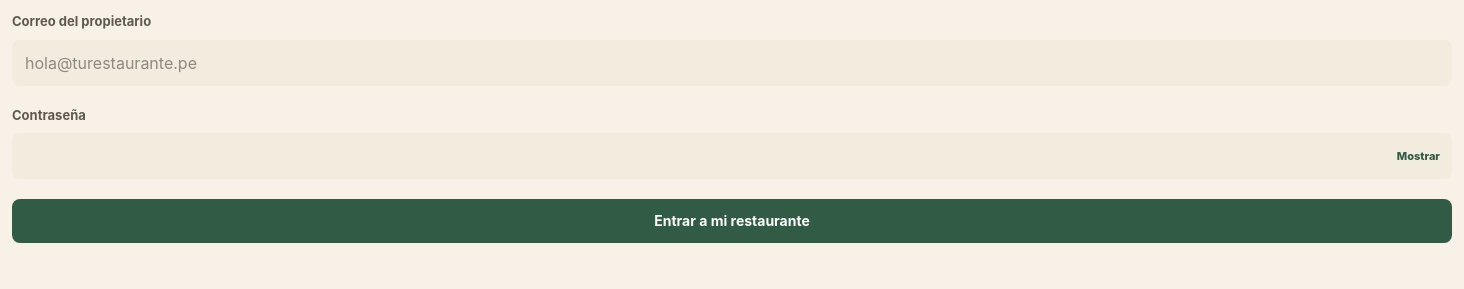
it: OwnerLoginForm › no envía un correo con formato inválido y explica cómo escribirlo
The image size is (1464, 289).
Type "hola@turestaurante" into the field labelled "Correo del propietario" at point(732, 62), box [12, 40, 1452, 86]
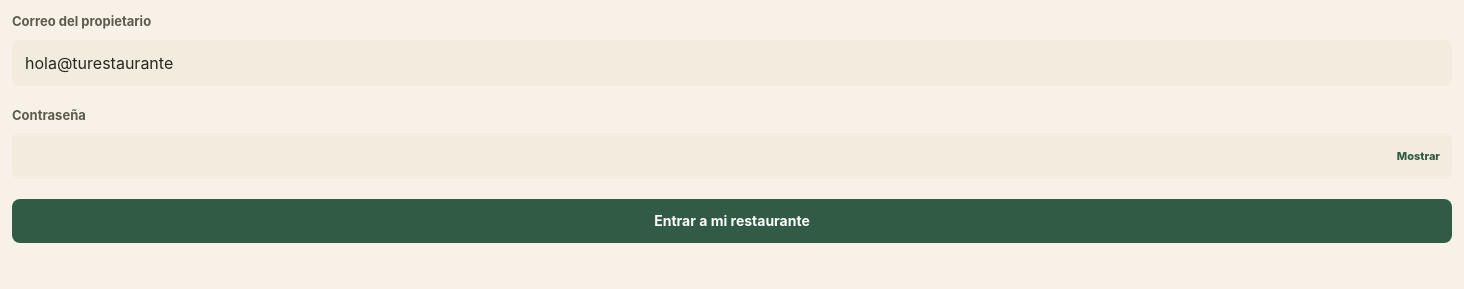
Type "OwnerPass-1" into the password field labelled "Contraseña" at point(732, 156), box [12, 133, 1452, 179]
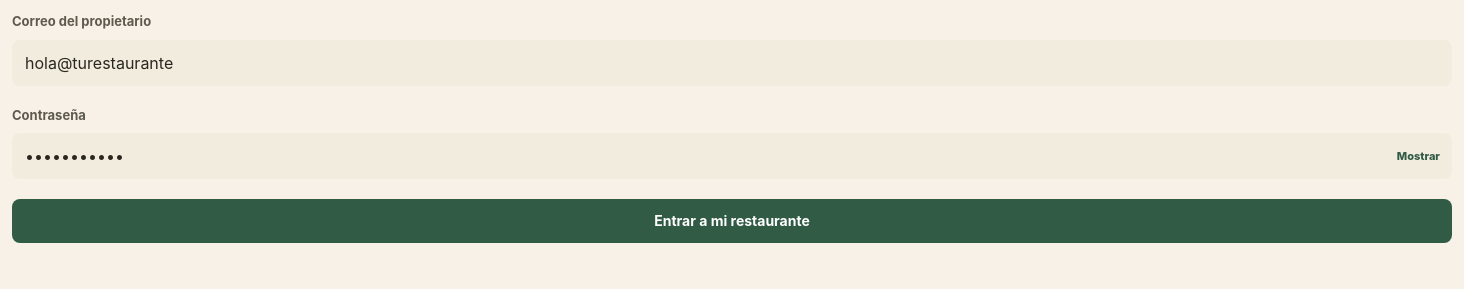
Click the button "Entrar a mi restaurante" at point(732, 221), box [12, 199, 1452, 243]
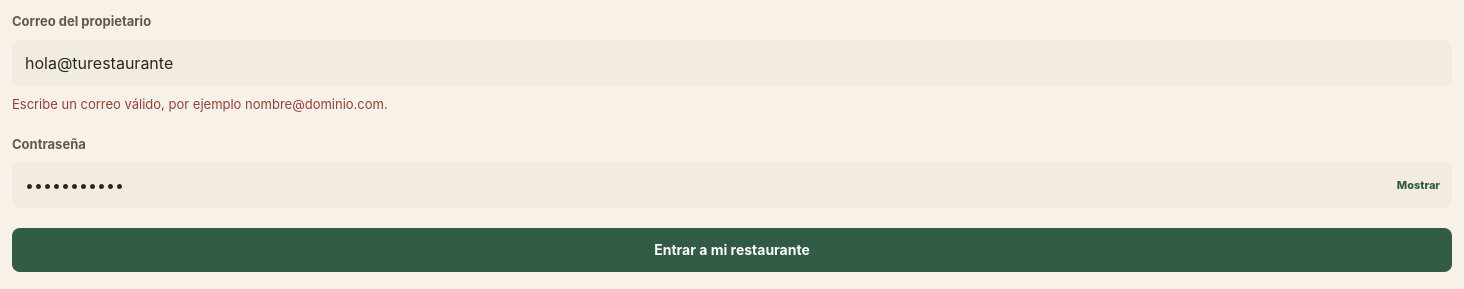
Now the message reads "Escribe un correo válido, por ejemplo nombre@dominio.com.", box [12, 96, 388, 112]
